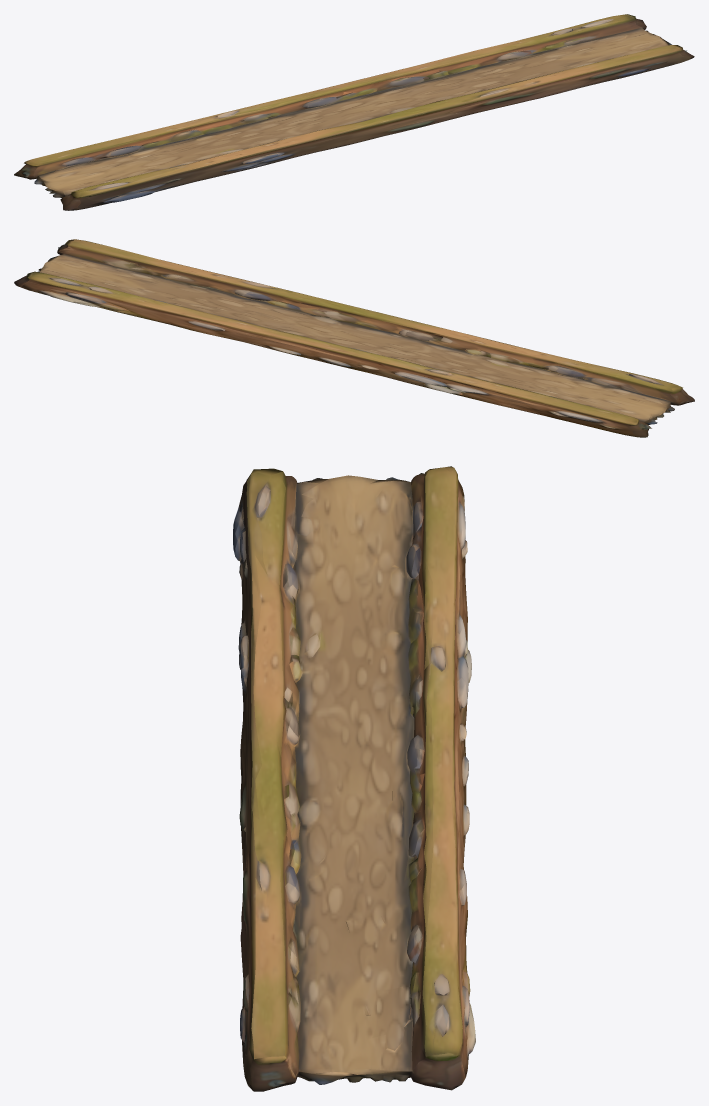
File: ENV-03.glb
3 renders of one model, top to bottom at view 1: azimuth 30°, elevation 25°; view 2: azimuth 150°, elevation 25°; view 3: azimuth 270°, elevation 25°, orthographic. The views are drawn at different scales.
Visible parts, largest first — view 1: ENV-03; view 2: ENV-03; view 3: ENV-03.
Part boxes in pixels (x1,y1,x2,y2): ENV-03: (14, 14, 694, 210); ENV-03: (14, 239, 694, 437); ENV-03: (233, 466, 475, 1091).
Size of the model in its own units: 18 by 0.35 by 3.
Materials: 1 (1 with a texture image).
